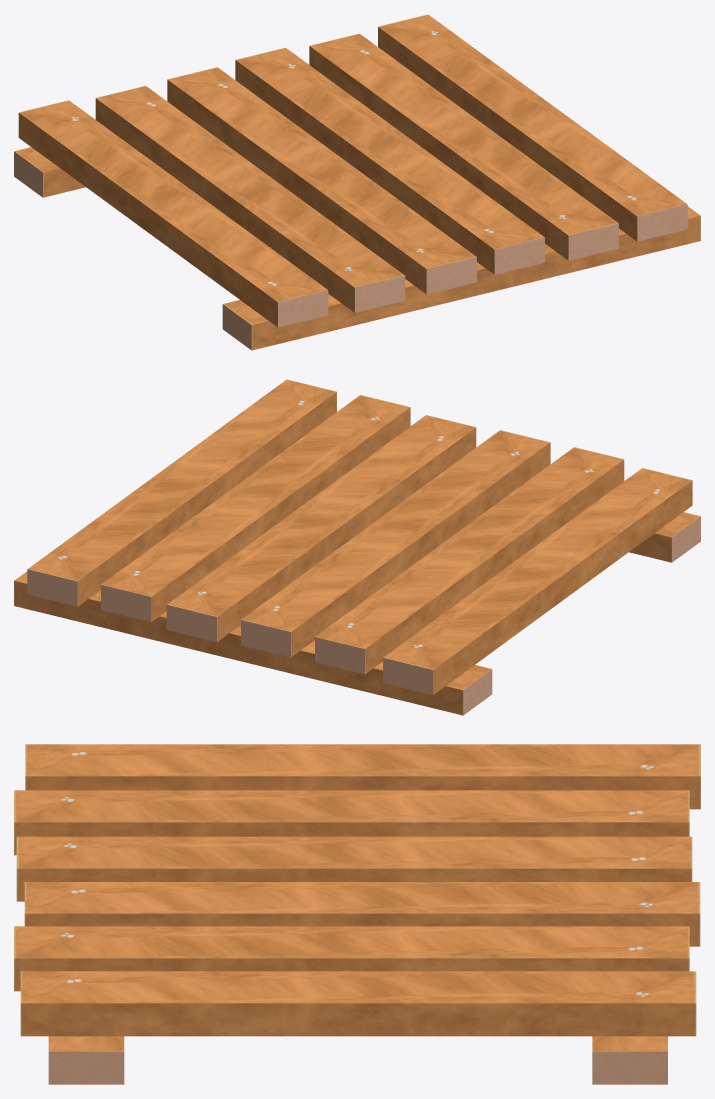
The model's file is Pallet_3.fbx.
The picture shows the model from 3 angles, top to bottom: view 1: azimuth 30°, elevation 25°; view 2: azimuth 150°, elevation 25°; view 3: azimuth 270°, elevation 25°; orthographic projection. The views are drawn at different scales.
Visible parts, largest first — view 1: Pallet_3; view 2: Pallet_3; view 3: Pallet_3.
Part boxes in pixels (<box>): Pallet_3: <box>14,14,700,350</box>; Pallet_3: <box>14,379,700,715</box>; Pallet_3: <box>14,744,700,1084</box>.
Bounding box in the file's own units: 0.9842 × 0.1058 × 1.
